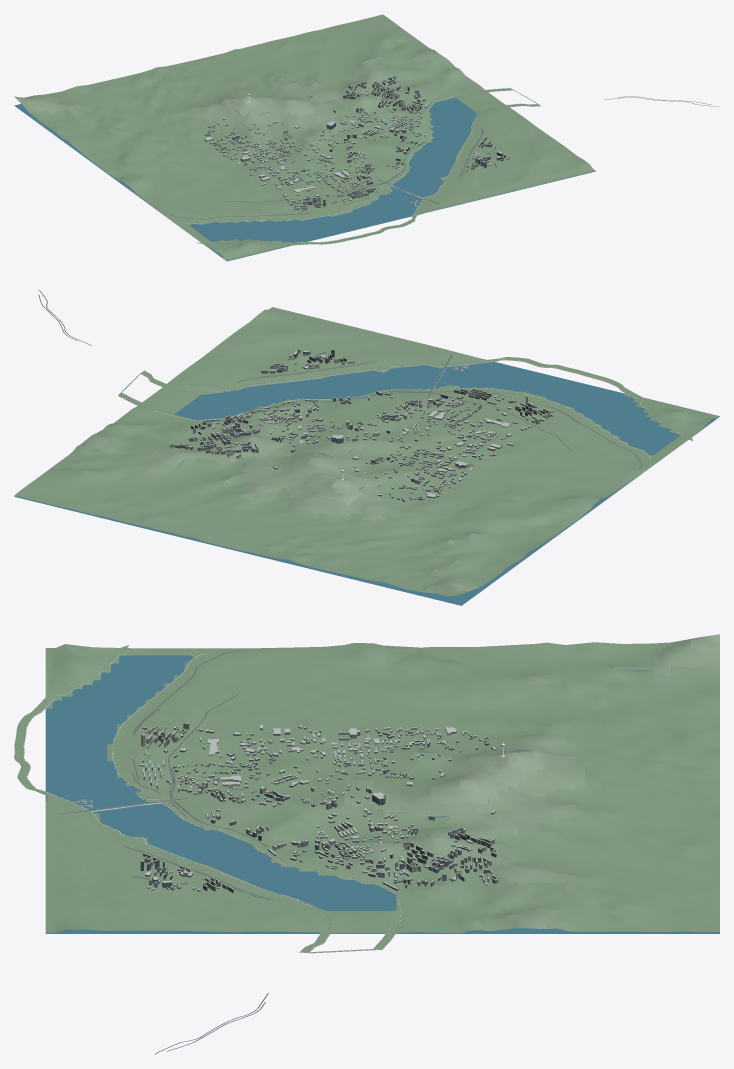
File: banpo-pilot-phone.glb
The picture shows the model from 3 angles, top to bottom: view 1: azimuth 30°, elevation 25°; view 2: azimuth 150°, elevation 25°; view 3: azimuth 270°, elevation 25°; orthographic projection. The views are drawn at different scales.
Parts seen in each view (by area): view 1: SRTM north bank and Namsan, Preview river surface, SRTM north bank and Namsan.001, Mapped Seoul rooflines, Continuous bank shoulders, Mapped Seoul building facades.003, SRTM north bank and Namsan.002, Mapped Seoul building facades.002, Mapped Seoul building facades, Mapped Seoul building facades.001, North bank mapped roads, Riverside promenade; view 2: SRTM north bank and Namsan, Preview river surface, SRTM north bank and Namsan.001, Mapped Seoul rooflines, Continuous bank shoulders, SRTM north bank and Namsan.002, Mapped Seoul building facades.003, Mapped Seoul building facades.002, Mapped Seoul building facades, Mapped Seoul building facades.001, North bank mapped roads, Riverside promenade; view 3: SRTM north bank and Namsan, Preview river surface, SRTM north bank and Namsan.001, Mapped Seoul rooflines, Continuous bank shoulders, SRTM north bank and Namsan.002, Mapped Seoul building facades.002, Mapped Seoul building facades.003, Mapped Seoul building facades, Mapped Seoul building facades.001, North bank mapped roads, Riverside promenade.
Boxes of the visible parts, left/top/right/bottom form: SRTM north bank and Namsan: left=29, top=14, right=595, bottom=260; Preview river surface: left=14, top=51, right=595, bottom=261; SRTM north bank and Namsan.001: left=20, top=40, right=446, bottom=145; Mapped Seoul rooflines: left=205, top=75, right=509, bottom=211; Continuous bank shoulders: left=181, top=88, right=540, bottom=245; Mapped Seoul building facades.003: left=206, top=81, right=502, bottom=209; SRTM north bank and Namsan.002: left=14, top=95, right=368, bottom=117; Mapped Seoul building facades.002: left=205, top=80, right=510, bottom=212; Mapped Seoul building facades: left=214, top=76, right=490, bottom=207; Mapped Seoul building facades.001: left=204, top=77, right=505, bottom=207; North bank mapped roads: left=169, top=96, right=719, bottom=219; Riverside promenade: left=183, top=88, right=537, bottom=243; SRTM north bank and Namsan: left=14, top=307, right=719, bottom=592; Preview river surface: left=14, top=358, right=719, bottom=605; SRTM north bank and Namsan.001: left=81, top=421, right=483, bottom=596; Mapped Seoul rooflines: left=170, top=348, right=554, bottom=500; Continuous bank shoulders: left=119, top=357, right=692, bottom=460; SRTM north bank and Namsan.002: left=249, top=436, right=468, bottom=595; Mapped Seoul building facades.003: left=190, top=350, right=552, bottom=501; Mapped Seoul building facades.002: left=185, top=350, right=555, bottom=500; Mapped Seoul building facades: left=170, top=358, right=545, bottom=493; Mapped Seoul building facades.001: left=175, top=349, right=542, bottom=500; North bank mapped roads: left=38, top=290, right=642, bottom=469; Riverside promenade: left=118, top=359, right=692, bottom=459; SRTM north bank and Namsan: left=45, top=642, right=719, bottom=933; Preview river surface: left=45, top=655, right=719, bottom=933; SRTM north bank and Namsan.001: left=315, top=637, right=719, bottom=928; Mapped Seoul rooflines: left=140, top=723, right=497, bottom=889; Continuous bank shoulders: left=14, top=645, right=410, bottom=952; SRTM north bank and Namsan.002: left=431, top=634, right=719, bottom=838; Mapped Seoul building facades.002: left=141, top=726, right=491, bottom=892; Mapped Seoul building facades.003: left=140, top=725, right=496, bottom=890; Mapped Seoul building facades: left=139, top=723, right=498, bottom=891; Mapped Seoul building facades.001: left=142, top=727, right=496, bottom=892; North bank mapped roads: left=124, top=650, right=273, bottom=1054; Riverside promenade: left=23, top=645, right=401, bottom=952.
Bounding box in the file's own units: 10091 × 477 × 7330.
Materials: 30 (4 with a texture image).
